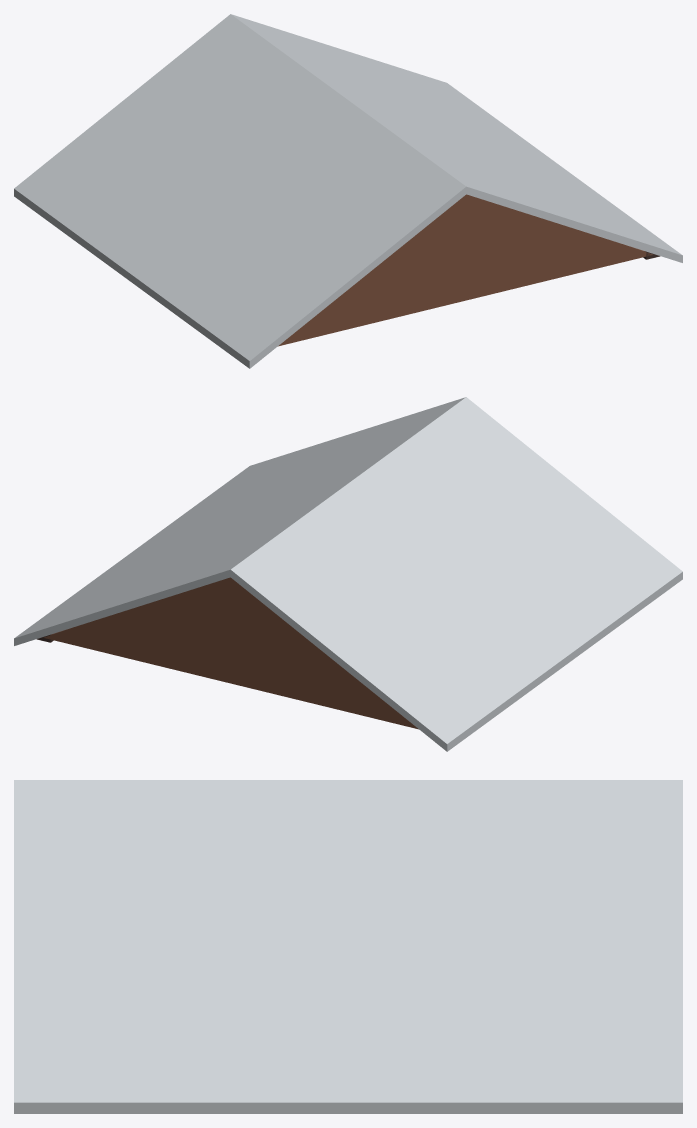
Rendered from Frosty_LodgeRoof_Simple.glb.
3 views of the same model, one above another, from view 1: azimuth 30°, elevation 25°; view 2: azimuth 150°, elevation 25°; view 3: azimuth 270°, elevation 25° (orthographic). The views are drawn at different scales.
Parts seen in each view (by area): view 1: Frosty_LodgeRoof_Simple; view 2: Frosty_LodgeRoof_Simple; view 3: Frosty_LodgeRoof_Simple.
Boxes of the visible parts, x1=… form: Frosty_LodgeRoof_Simple: x1=14, y1=14, x2=682, y2=368; Frosty_LodgeRoof_Simple: x1=14, y1=397, x2=682, y2=751; Frosty_LodgeRoof_Simple: x1=14, y1=780, x2=682, y2=1113.
Size of the model in its own units: 7 by 2 by 6.6.
